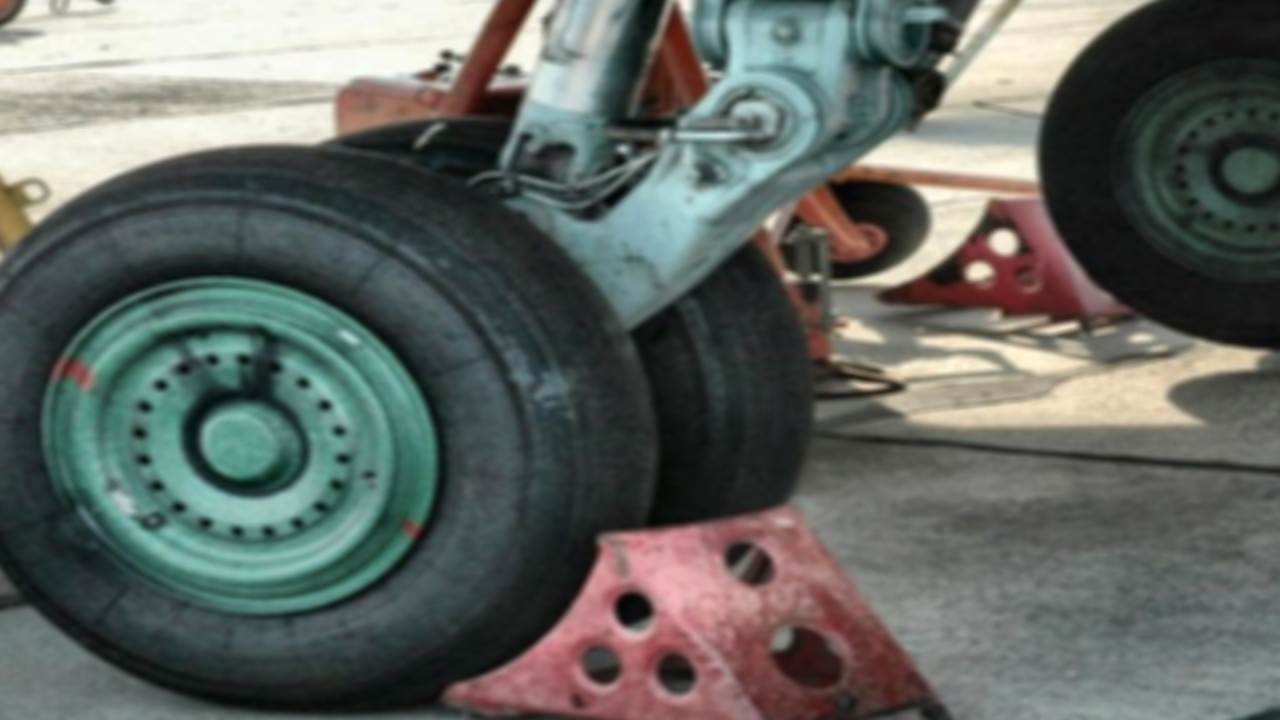chock: (438, 503, 967, 720)
wheel: (0, 141, 658, 713), (1039, 0, 1280, 354)
